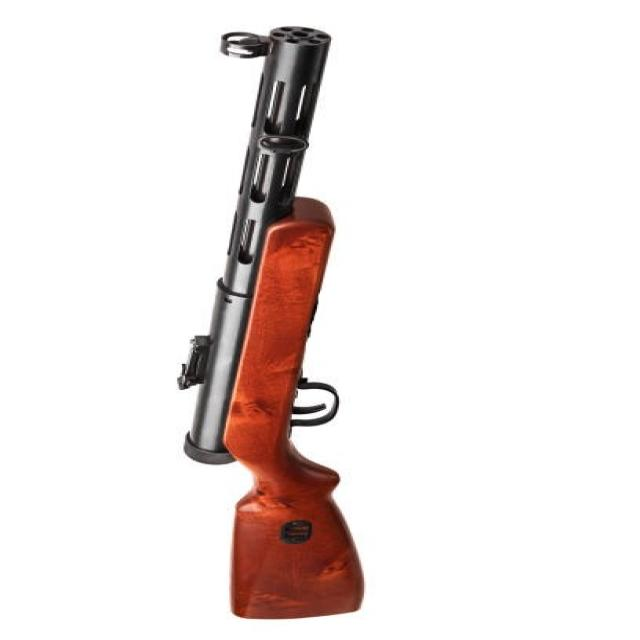rifle: (152, 18, 389, 625)
